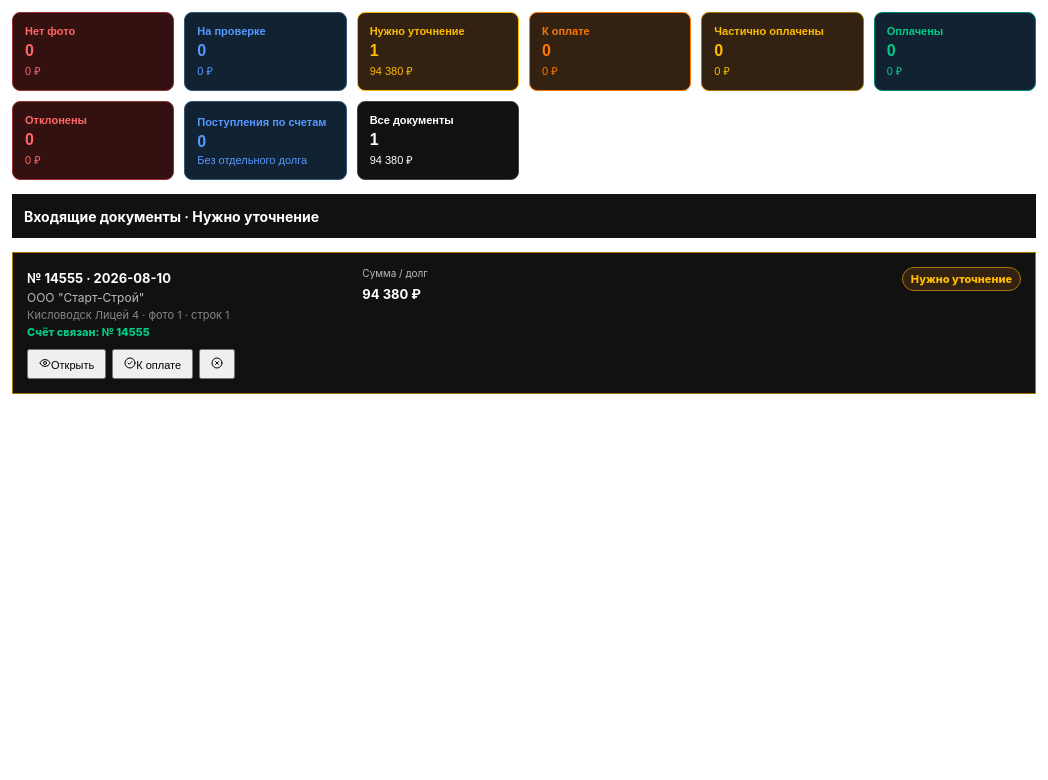
Scenario: an uploaded invoice with a linked supplier bill hides recovery controls by default
The image size is (1048, 780).
Click the button "Открыть" at {"x": 67, "y": 364}, box [27,349,106,379]
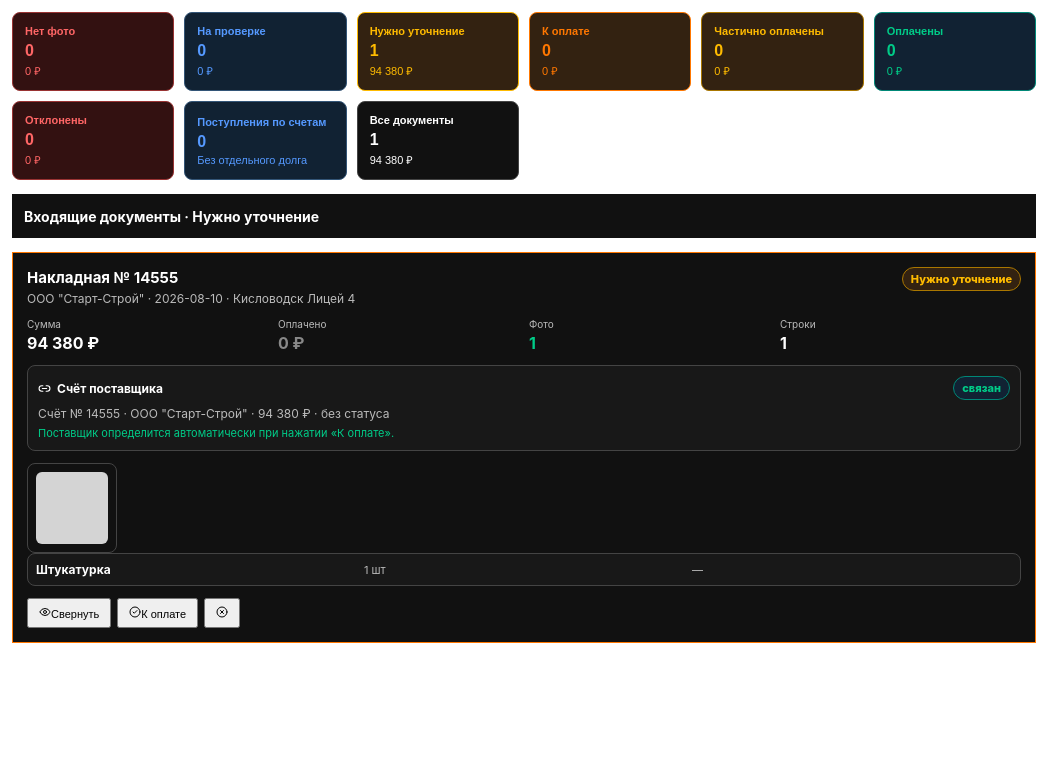
expect the text "Счёт № 14555 · ООО \"Старт-Строй\" · 94 380 ₽ · без статуса" is shown: met, box [38,406,390,421]
